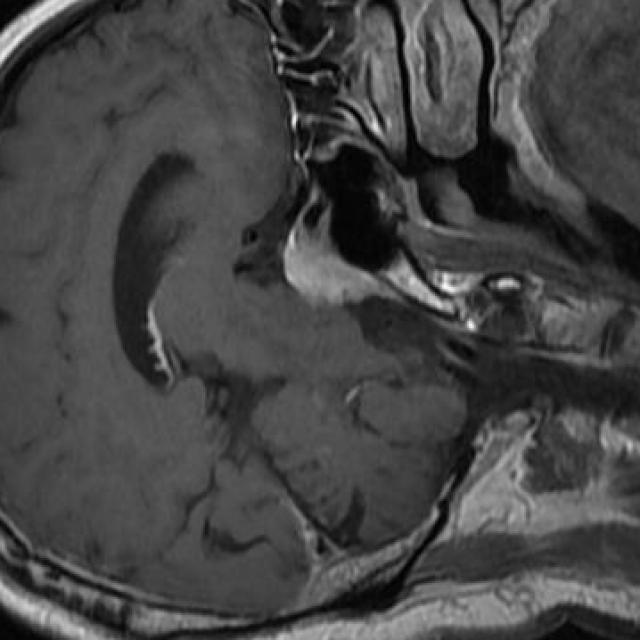meningioma: (283, 212, 403, 303)
